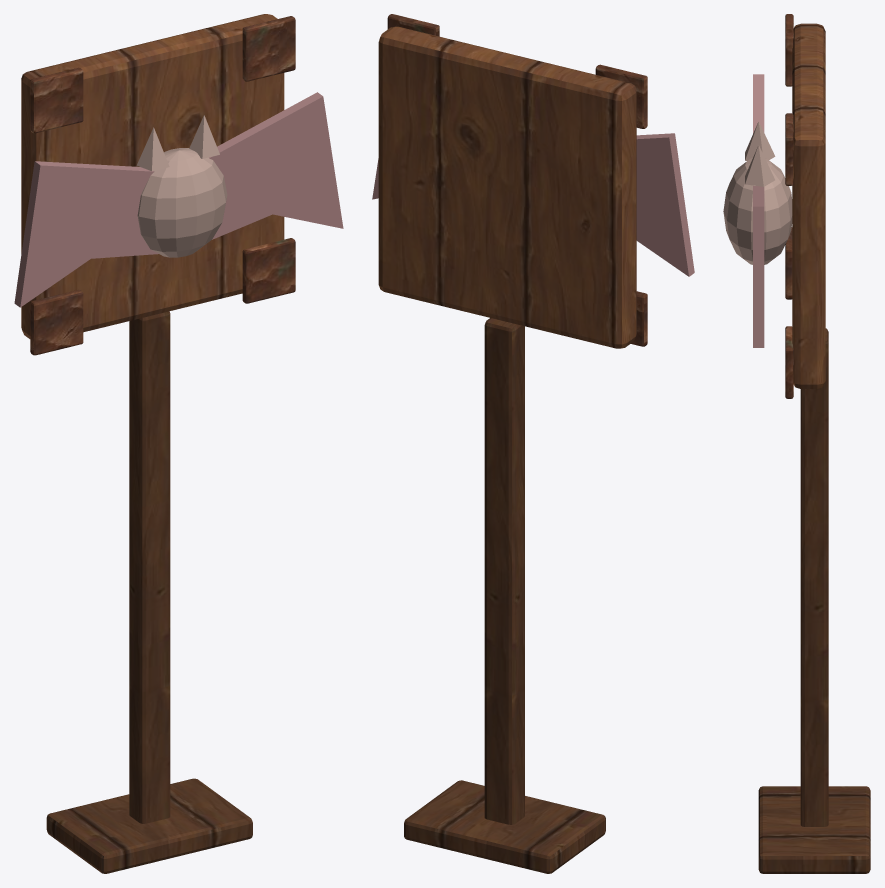
Rendered from bat_trophy.glb.
The picture shows the model from 3 angles, left to right: view 1: azimuth 30°, elevation 25°; view 2: azimuth 150°, elevation 25°; view 3: azimuth 270°, elevation 25°; orthographic projection. The views are drawn at different scales.
Visible parts, largest first — view 1: model; view 2: model; view 3: model.
Boxes of the visible parts, <box> form: model: <box>14,14,343,873</box>; model: <box>372,14,694,873</box>; model: <box>723,14,870,873</box>.
Bounding box in the file's own units: 0.64 × 1.51 × 0.263.
Materials: 5 (3 with a texture image).
